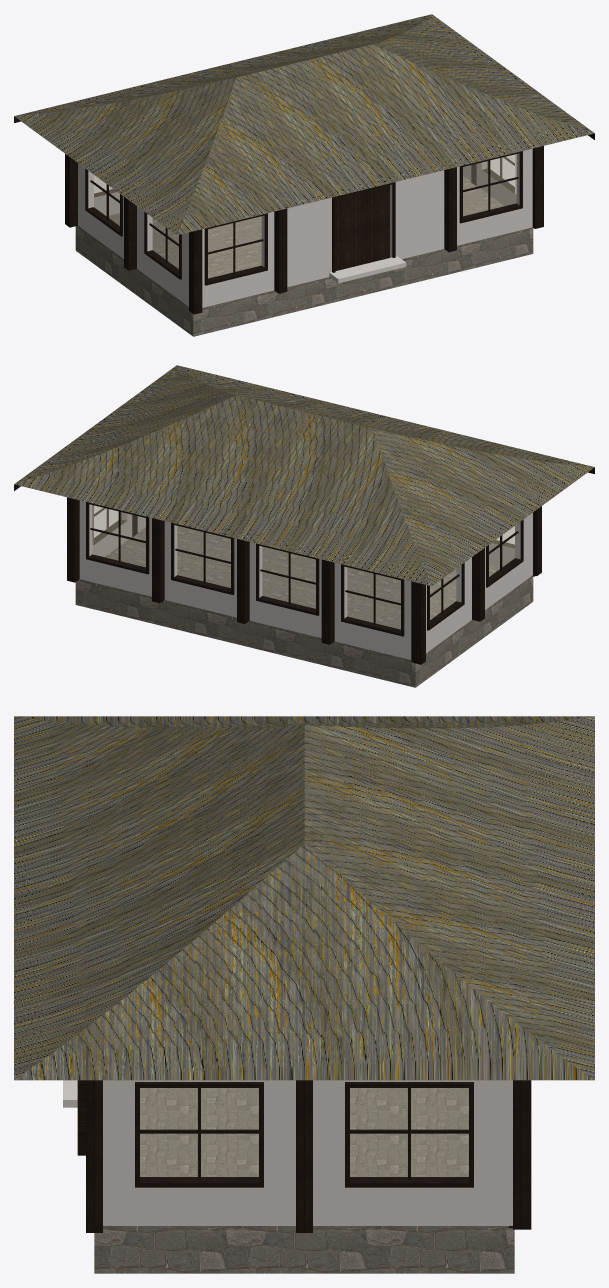
File: hanok_01.glb
3 renders of one model, top to bottom at view 1: azimuth 30°, elevation 25°; view 2: azimuth 150°, elevation 25°; view 3: azimuth 270°, elevation 25°, orthographic. The views are drawn at different scales.
Parts seen in each view (by area): view 1: hanok_01; view 2: hanok_01; view 3: hanok_01.
Part boxes in pixels (x1,y1,x2,y2): hanok_01: (14,14,594,336); hanok_01: (14,365,594,687); hanok_01: (14,716,594,1273).
Size of the model in its own units: 12.3 by 5.38 by 8.3.
Materials: 6 (5 with a texture image).
